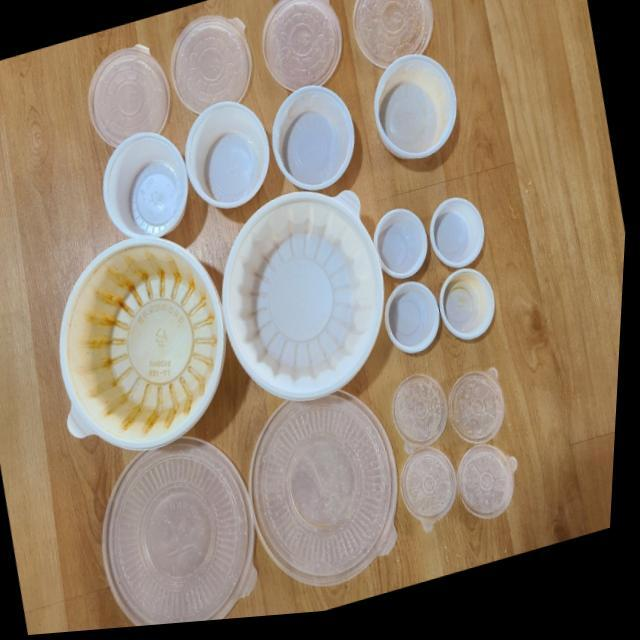bottle: (182, 160, 398, 419), (38, 227, 230, 465)
